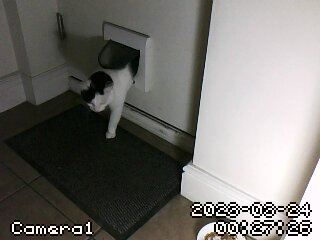bad: (81, 51, 143, 147)
